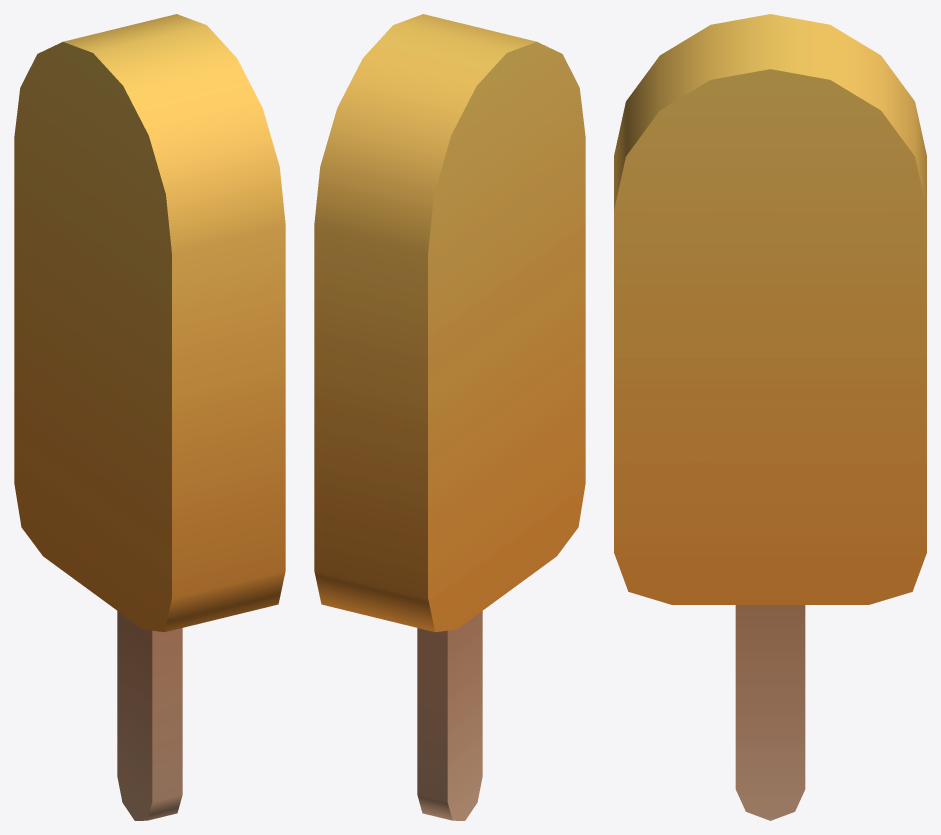
Rendered from food.popsicle.glb.
The picture shows the model from 3 angles, left to right: view 1: azimuth 30°, elevation 25°; view 2: azimuth 150°, elevation 25°; view 3: azimuth 270°, elevation 25°; orthographic projection.
Visible parts, largest first — view 1: popsicle; view 2: popsicle; view 3: popsicle.
Boxes of the visible parts, x1,y1,x2,y2 form: popsicle: (14, 14, 285, 820); popsicle: (314, 14, 585, 820); popsicle: (614, 14, 926, 820).
Bounding box in the file's own units: 0.0223 × 0.1455 × 0.0535.
1 material, 1 textured.
